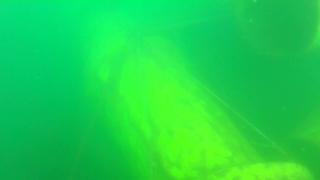pipe: (78, 24, 313, 180), (230, 1, 320, 59), (277, 125, 320, 167)
